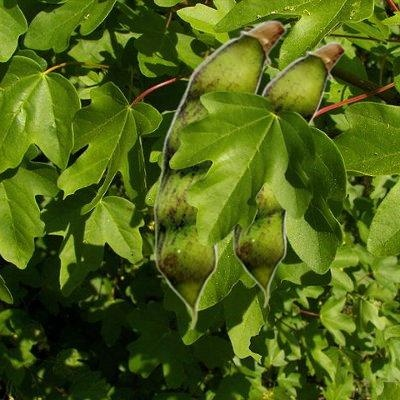pea: (154, 19, 286, 329), (232, 41, 345, 307)
